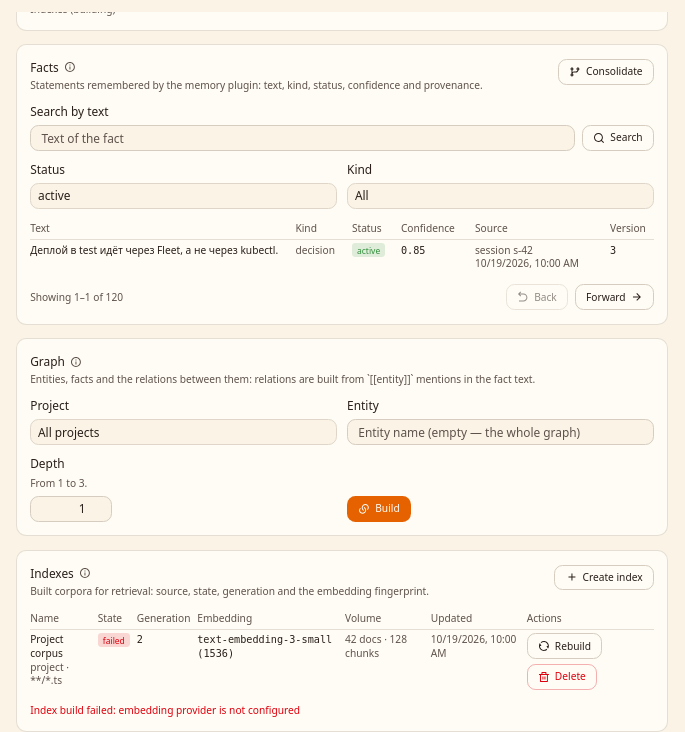
it: MemorySettings — операции с индексами › 409: провайдер недоступен — кнопки мутаций заблокированы, показана подсказка
Click the button "Rebuild".
click(564, 646)  # box left=527, top=634, right=602, bottom=659
(page scrolled)
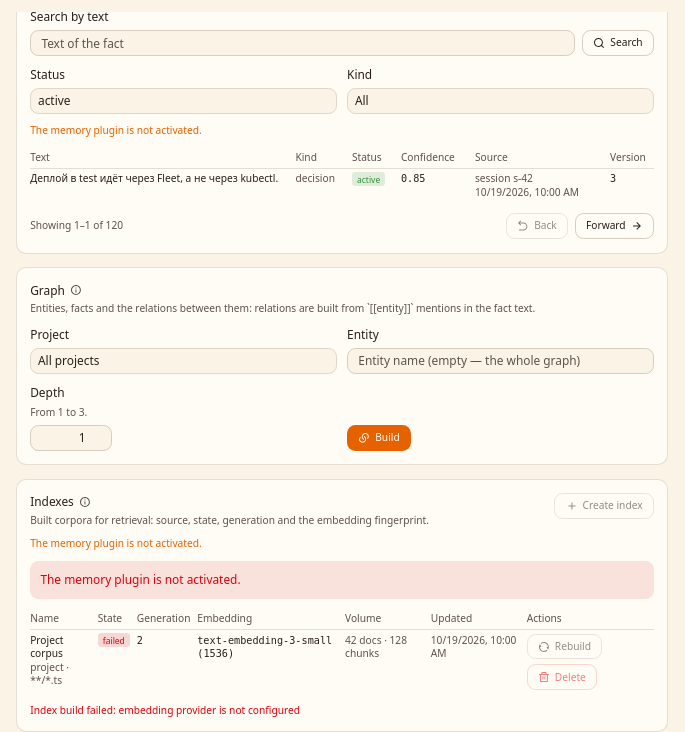
Check: the 2nd text "The memory plugin is not activated." is shown, box left=30, top=536, right=202, bottom=550
